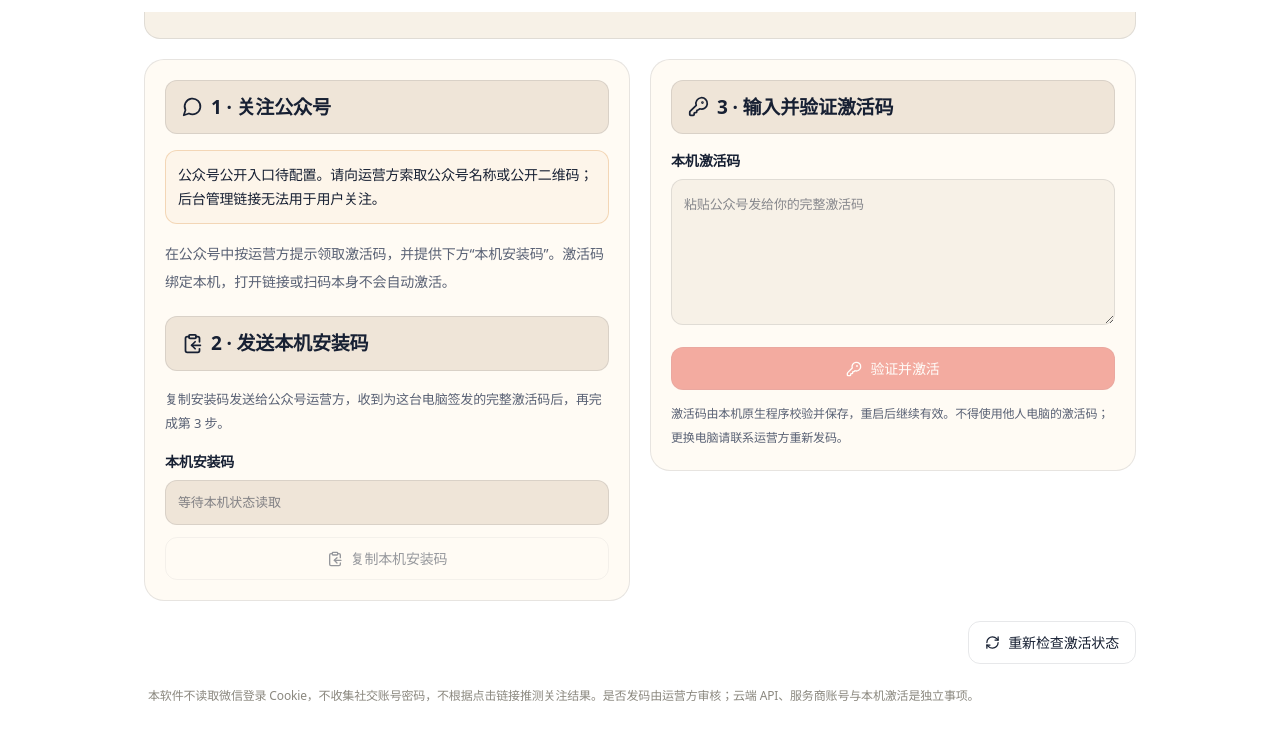
Test: active account route is native activation › fails closed on loading error and offers a retry
(page scrolled)
In the text box labelled "本机激活码": (893, 252) [671, 179, 1115, 325], type "some-code"
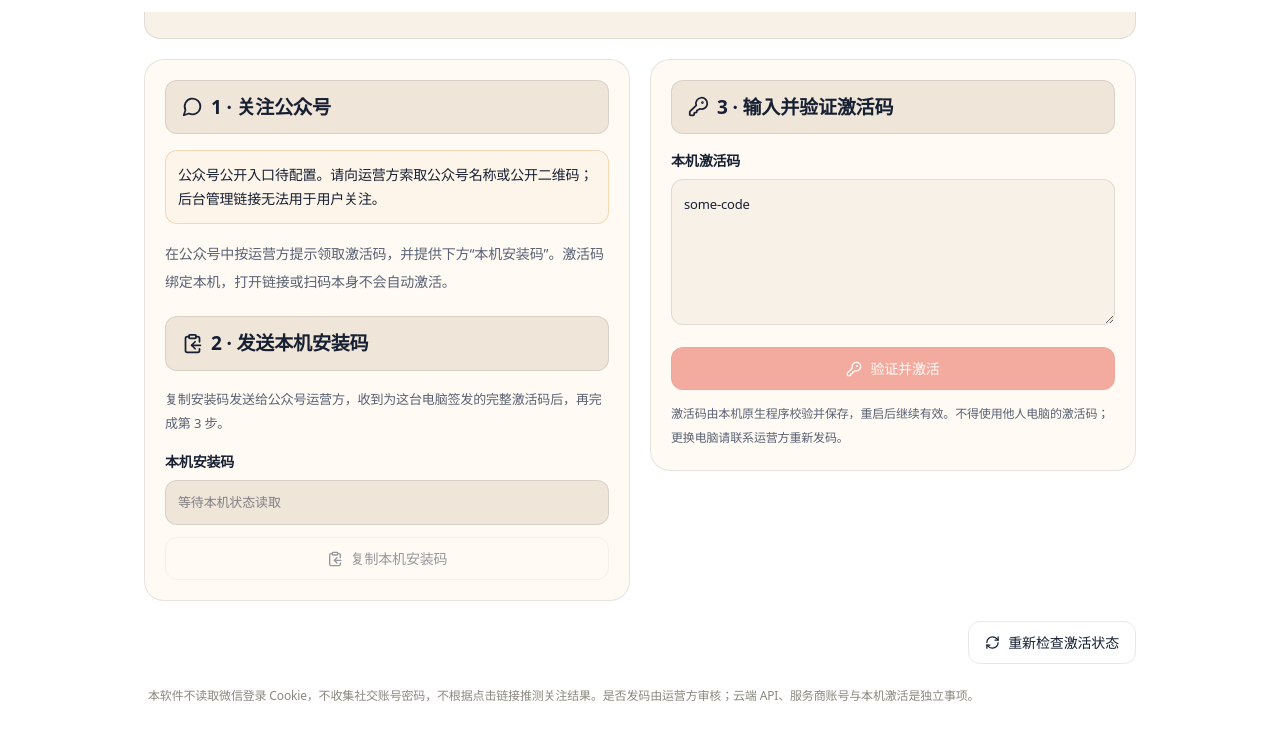
Expected: the button "验证并激活" is disabled, [671, 347, 1115, 390]
Click the button "重新检查激活状态": (1052, 642) [968, 621, 1136, 664]
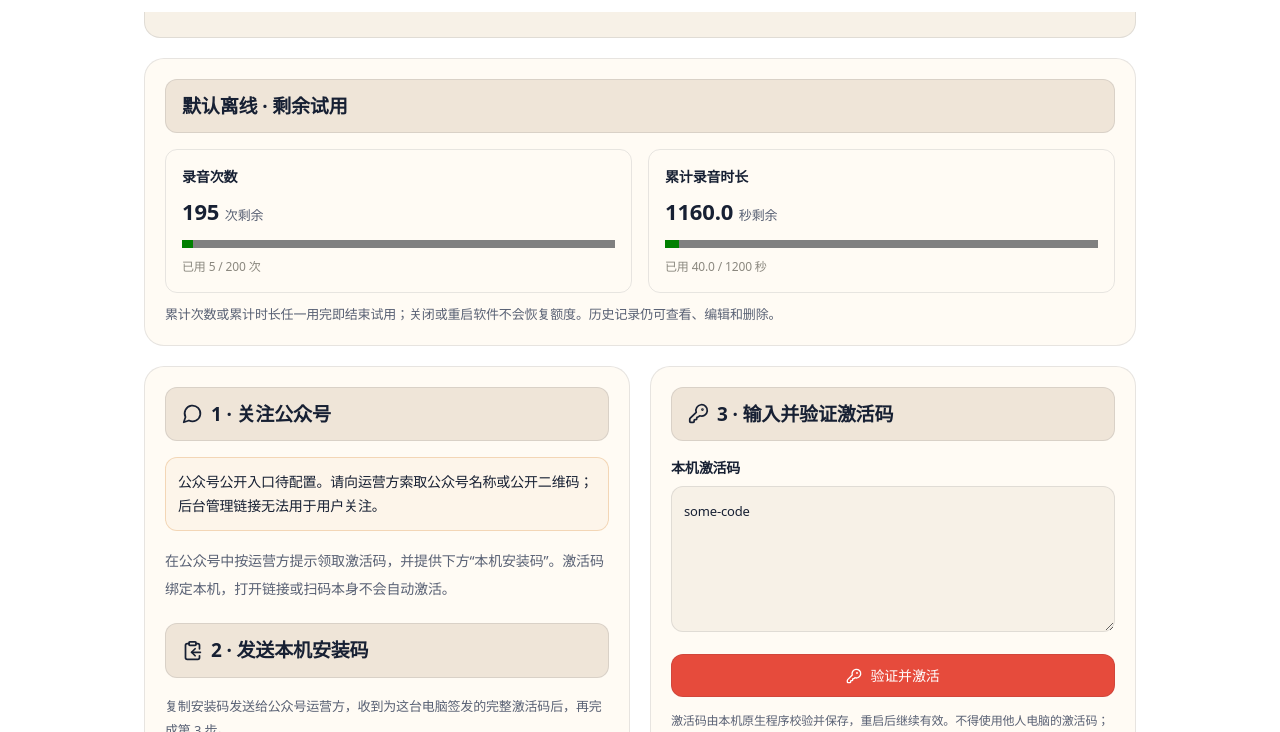
Expected: the button "验证并激活" is enabled, [671, 654, 1115, 697]
